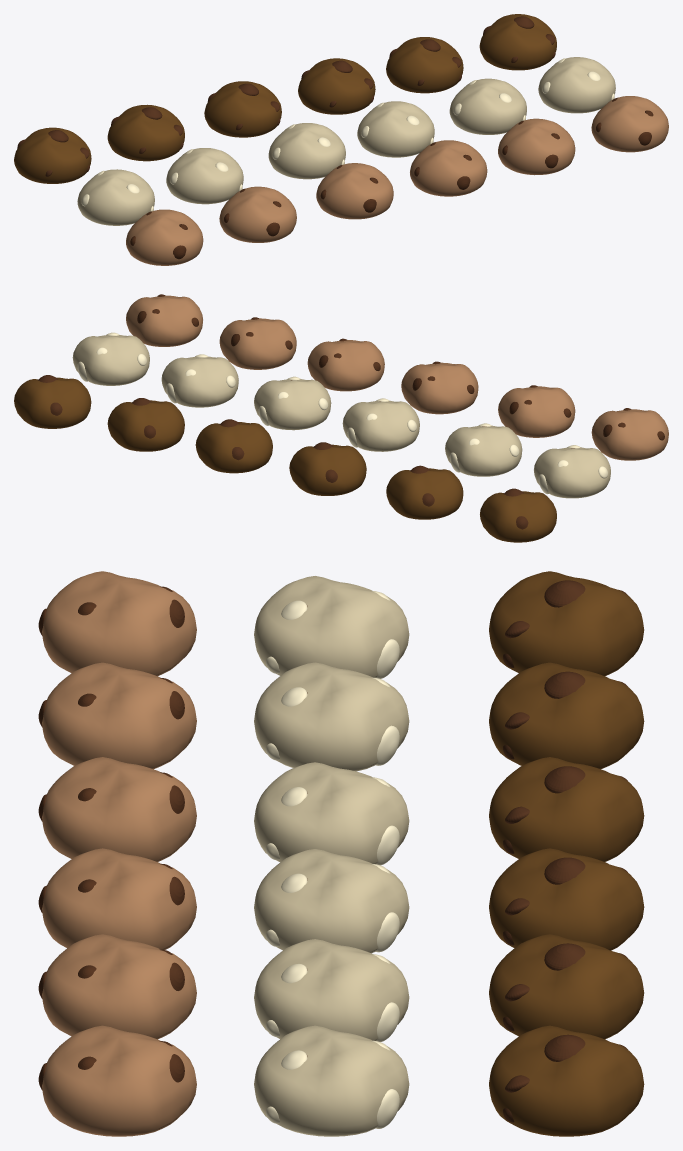
The model's file is uncooked Cookies.fbx.
3 views of the same model, one above another, from view 1: azimuth 30°, elevation 25°; view 2: azimuth 150°, elevation 25°; view 3: azimuth 270°, elevation 25° (orthographic). The views are drawn at different scales.
Parts seen in each view (by area): view 1: Sphere.005, Sphere.008, Sphere.014, Sphere.002, Sphere.054, Sphere.011, Sphere.006, Sphere.009, Sphere.015, Sphere.119, Sphere.003, Sphere.012 (+6 smaller); view 2: Sphere.005, Sphere.054, Sphere.002, Sphere.001, Sphere.008, Sphere.011, Sphere.014, Sphere.013, Sphere.010, Sphere.016, Sphere.007, Sphere.004 (+6 smaller); view 3: Sphere.119, Sphere.007, Sphere.054, Sphere.013, Sphere.012, Sphere.011, Sphere.015, Sphere.003, Sphere.009, Sphere.002, Sphere.008, Sphere.014 (+6 smaller).
Boxes of the visible parts, x1,y1,x2,y2 form: Sphere.005: (298,58,375,114); Sphere.008: (204,81,281,137); Sphere.014: (14,127,91,183); Sphere.002: (386,37,463,93); Sphere.054: (479,14,556,70); Sphere.011: (107,104,184,161); Sphere.006: (410,140,487,196); Sphere.009: (316,163,393,219); Sphere.015: (126,209,203,265); Sphere.119: (591,96,668,152); Sphere.003: (498,118,575,175); Sphere.012: (219,186,296,242); Sphere.005: (195,419,272,473); Sphere.054: (14,375,91,428); Sphere.002: (107,398,184,451); Sphere.001: (161,354,238,407); Sphere.008: (289,442,366,495); Sphere.011: (386,465,463,519); Sphere.014: (480,488,556,542); Sphere.013: (445,423,522,476); Sphere.010: (342,398,419,451); Sphere.016: (534,445,610,498); Sphere.007: (72,332,149,385); Sphere.004: (254,376,331,430); Sphere.119: (38,1025,196,1136); Sphere.007: (254,1025,409,1136); Sphere.054: (489,1025,644,1136); Sphere.013: (254,662,409,771); Sphere.012: (38,662,196,769); Sphere.011: (489,662,644,769); Sphere.015: (38,571,196,676); Sphere.003: (38,934,196,1039); Sphere.009: (38,757,196,861); Sphere.002: (489,934,644,1039); Sphere.008: (489,757,644,861); Sphere.014: (489,571,644,675).
Size of the model in its own units: 5646 by 413 by 2778.
